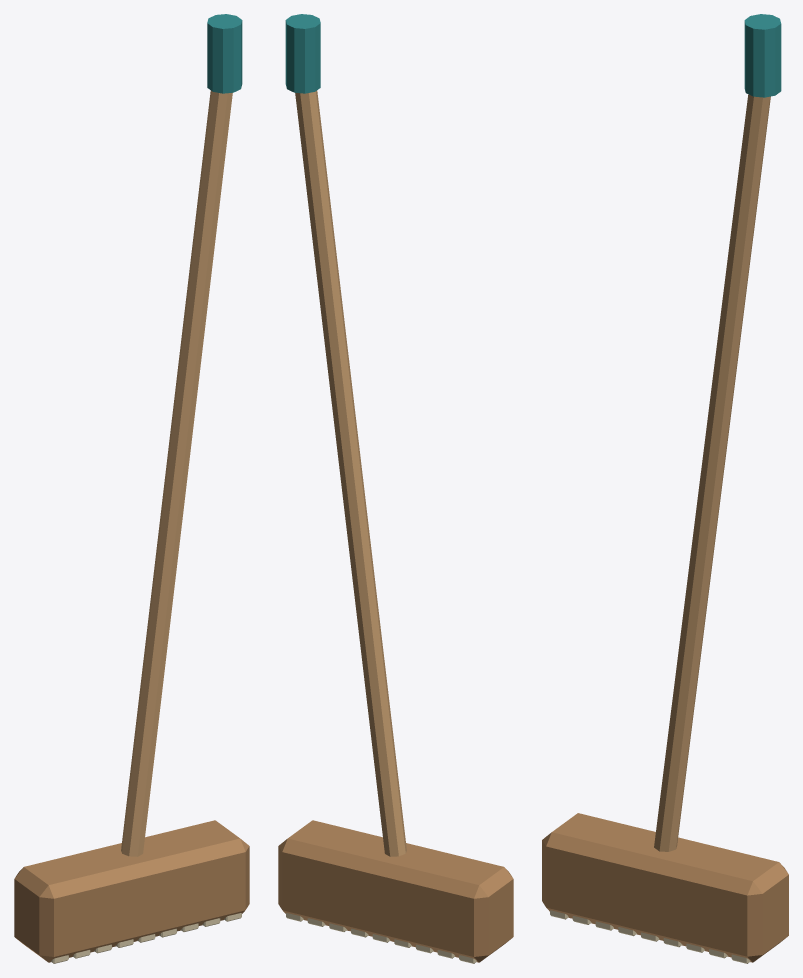
The model's file is Broom.glb.
The picture shows the model from 3 angles, left to right: view 1: azimuth 30°, elevation 25°; view 2: azimuth 150°, elevation 25°; view 3: azimuth 330°, elevation 25°; orthographic projection. The views are drawn at different scales.
Parts seen in each view (by area): view 1: Broom; view 2: Broom; view 3: Broom.
Part boxes in pixels (x1,y1,x2,y2): Broom: (14,14,249,963); Broom: (278,14,513,963); Broom: (542,14,788,963).
Size of the model in its own units: 0.3438 by 1.37 by 0.1.
